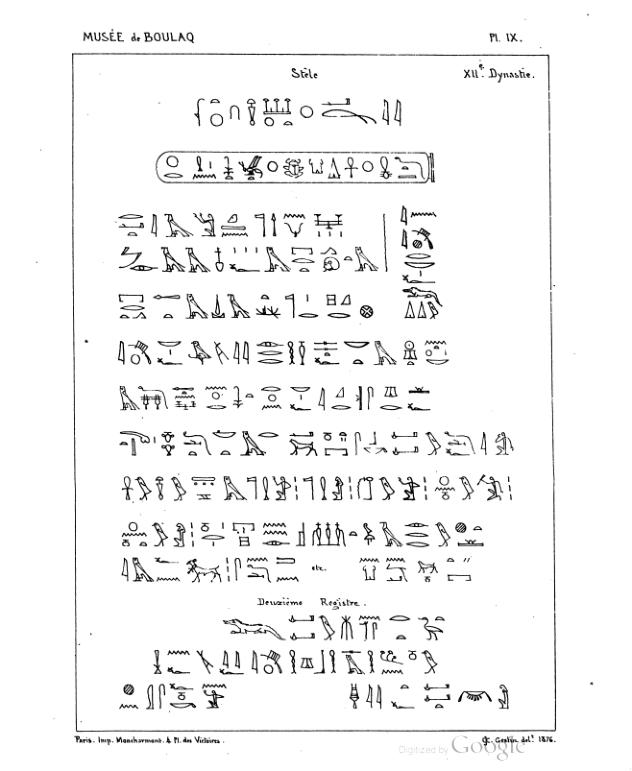circle: (152, 147, 440, 192)
